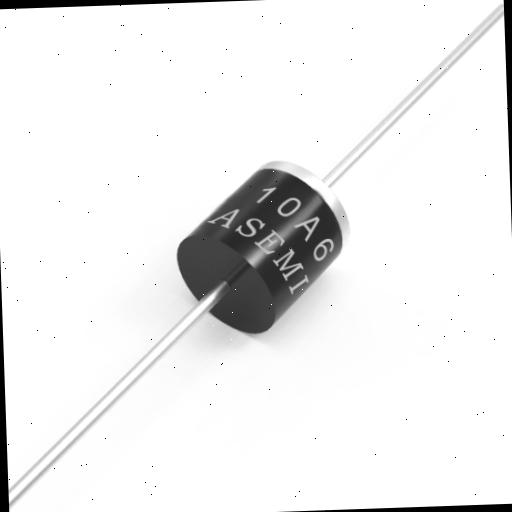DIODE: (62, 94, 479, 430)
